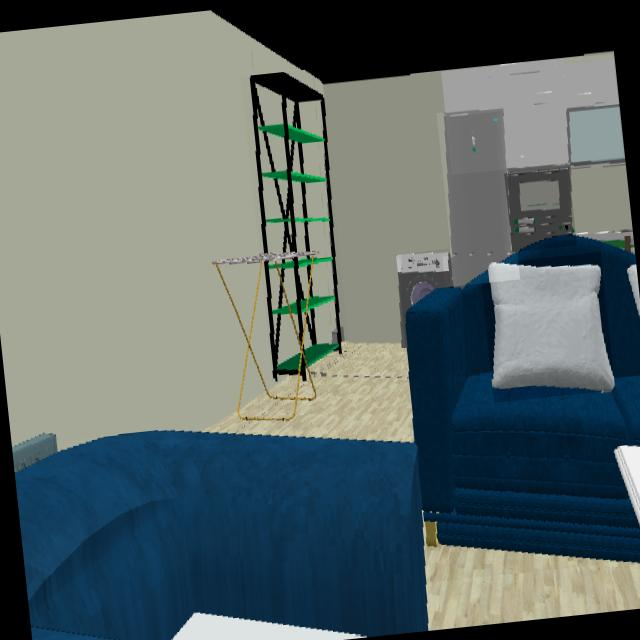cabinet: (442, 53, 617, 168)
fridge: (445, 108, 513, 285)
microwave: (510, 169, 572, 250)
pillow: (489, 263, 614, 390)
shelf: (250, 74, 343, 379)
sofa: (15, 431, 427, 640), (408, 236, 640, 560)
